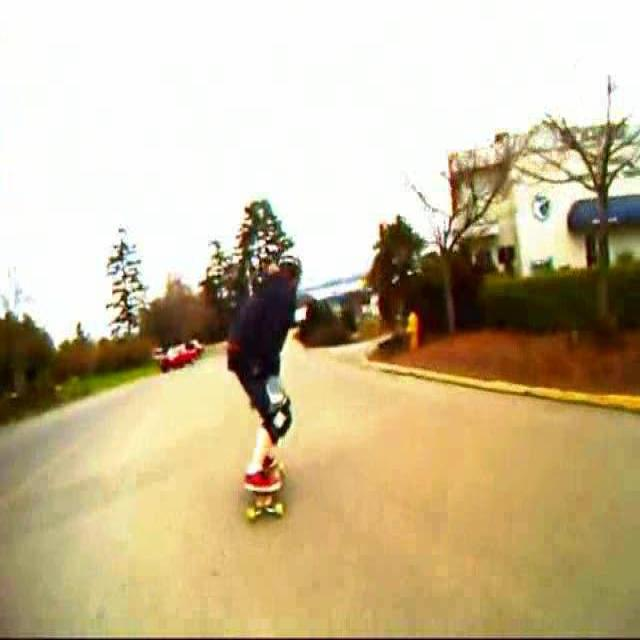other: (247, 429, 296, 523), (141, 334, 207, 379)
